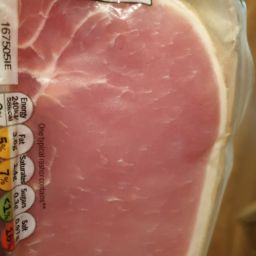Bacon: (36, 3, 254, 245), (92, 12, 256, 256), (74, 49, 255, 256), (25, 3, 256, 112)
